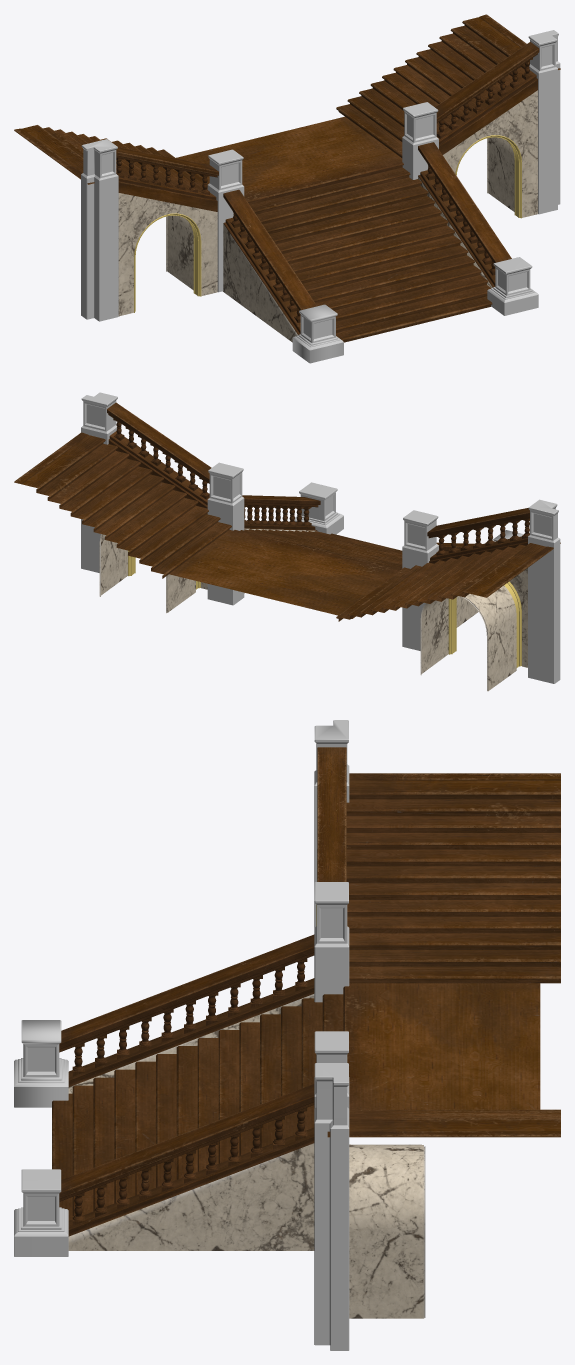
3 renders of one model, top to bottom at view 1: azimuth 30°, elevation 25°; view 2: azimuth 150°, elevation 25°; view 3: azimuth 270°, elevation 25°, orthographic. The views are drawn at different scales.
Parts seen in each view (by area): view 1: Base; view 2: Base; view 3: Base.
Boxes of the visible parts, left/top/right/bottom form: Base: left=14, top=14, right=560, bottom=363; Base: left=14, top=392, right=560, bottom=691; Base: left=14, top=720, right=560, bottom=1350.
Bounding box in the file's own units: 3.4 × 1.17 × 2.16.
